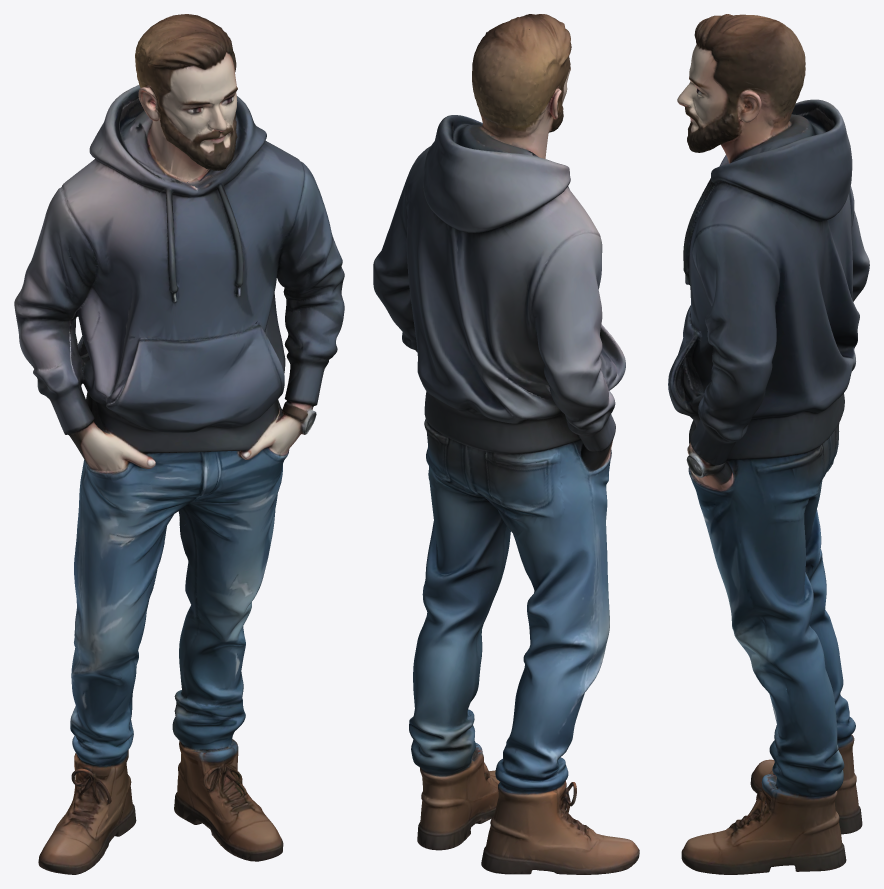
The model's file is engineer.glb.
The picture shows the model from 3 angles, left to right: view 1: azimuth 30°, elevation 25°; view 2: azimuth 150°, elevation 25°; view 3: azimuth 270°, elevation 25°; orthographic projection. The views are drawn at different scales.
Size of the model in its own units: 0.6774 by 1.9 by 0.4235.
Materials: 1 (1 with a texture image).
